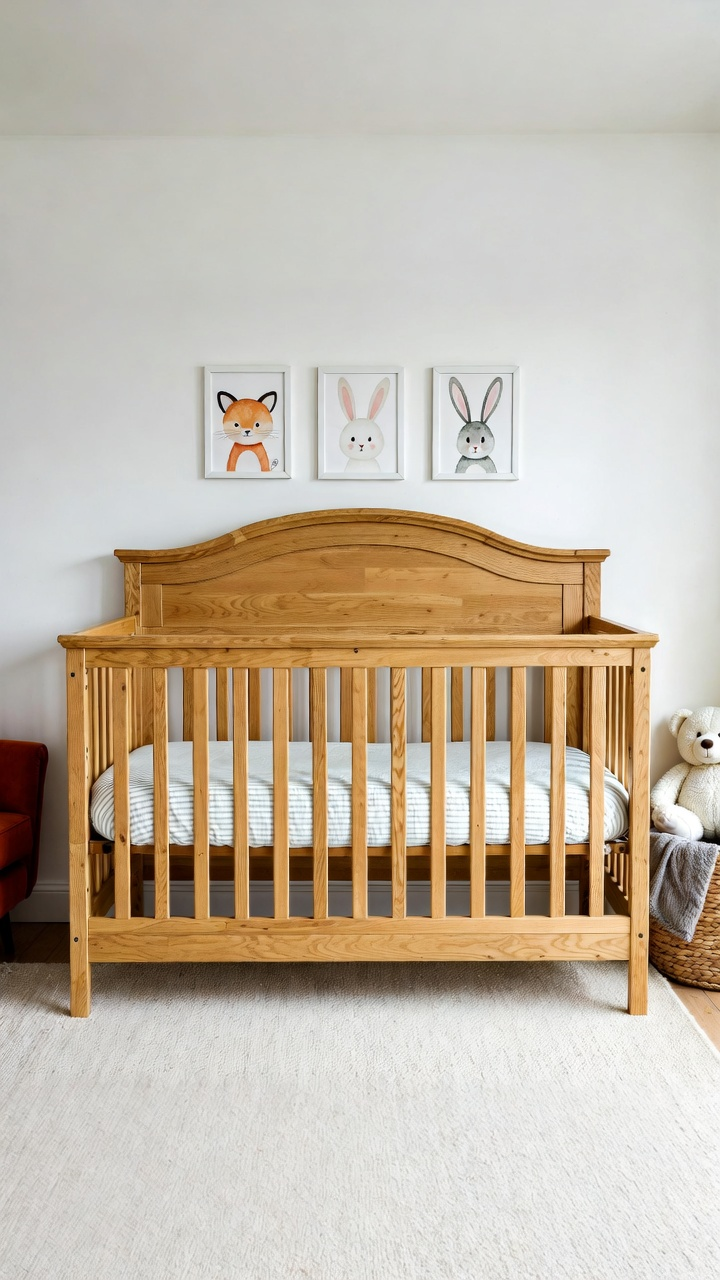crib: (58, 505, 657, 1012)
